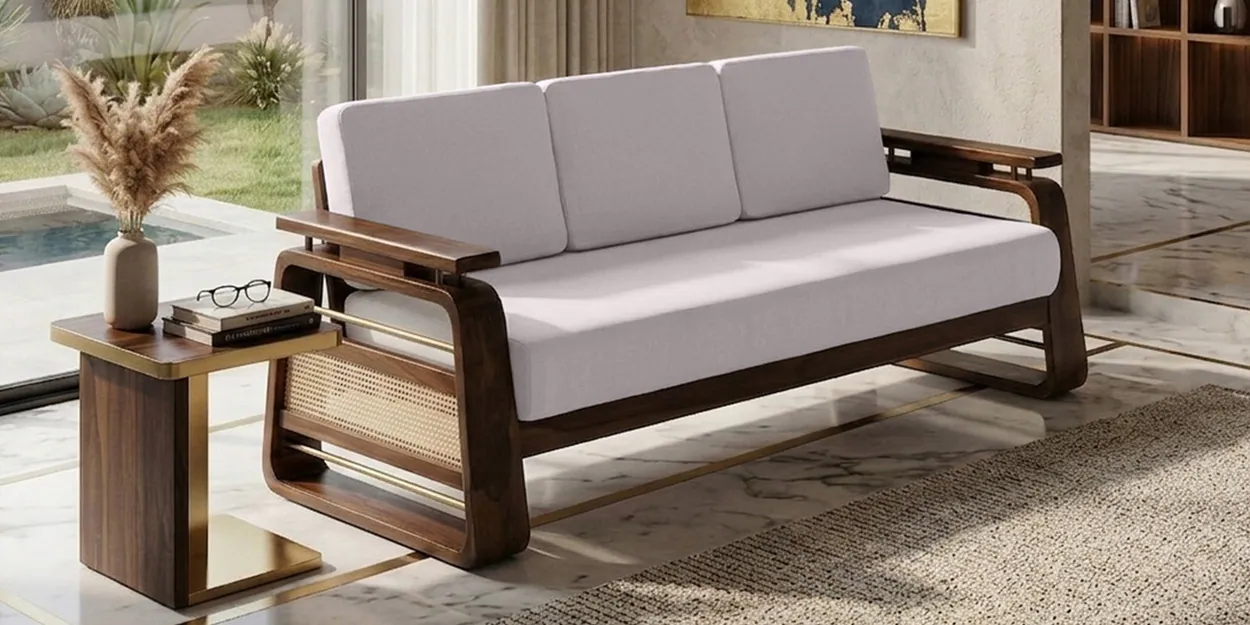3seatersofa: (266, 47, 1086, 567)
backrest: (320, 46, 889, 262)
base: (522, 298, 1051, 455)
leftarmrest: (883, 128, 1062, 177)
leg: (261, 237, 533, 573), (879, 142, 1089, 397)
rightarmrest: (278, 211, 500, 275)
seat: (477, 200, 1058, 420), (345, 291, 450, 340), (348, 327, 453, 365)
